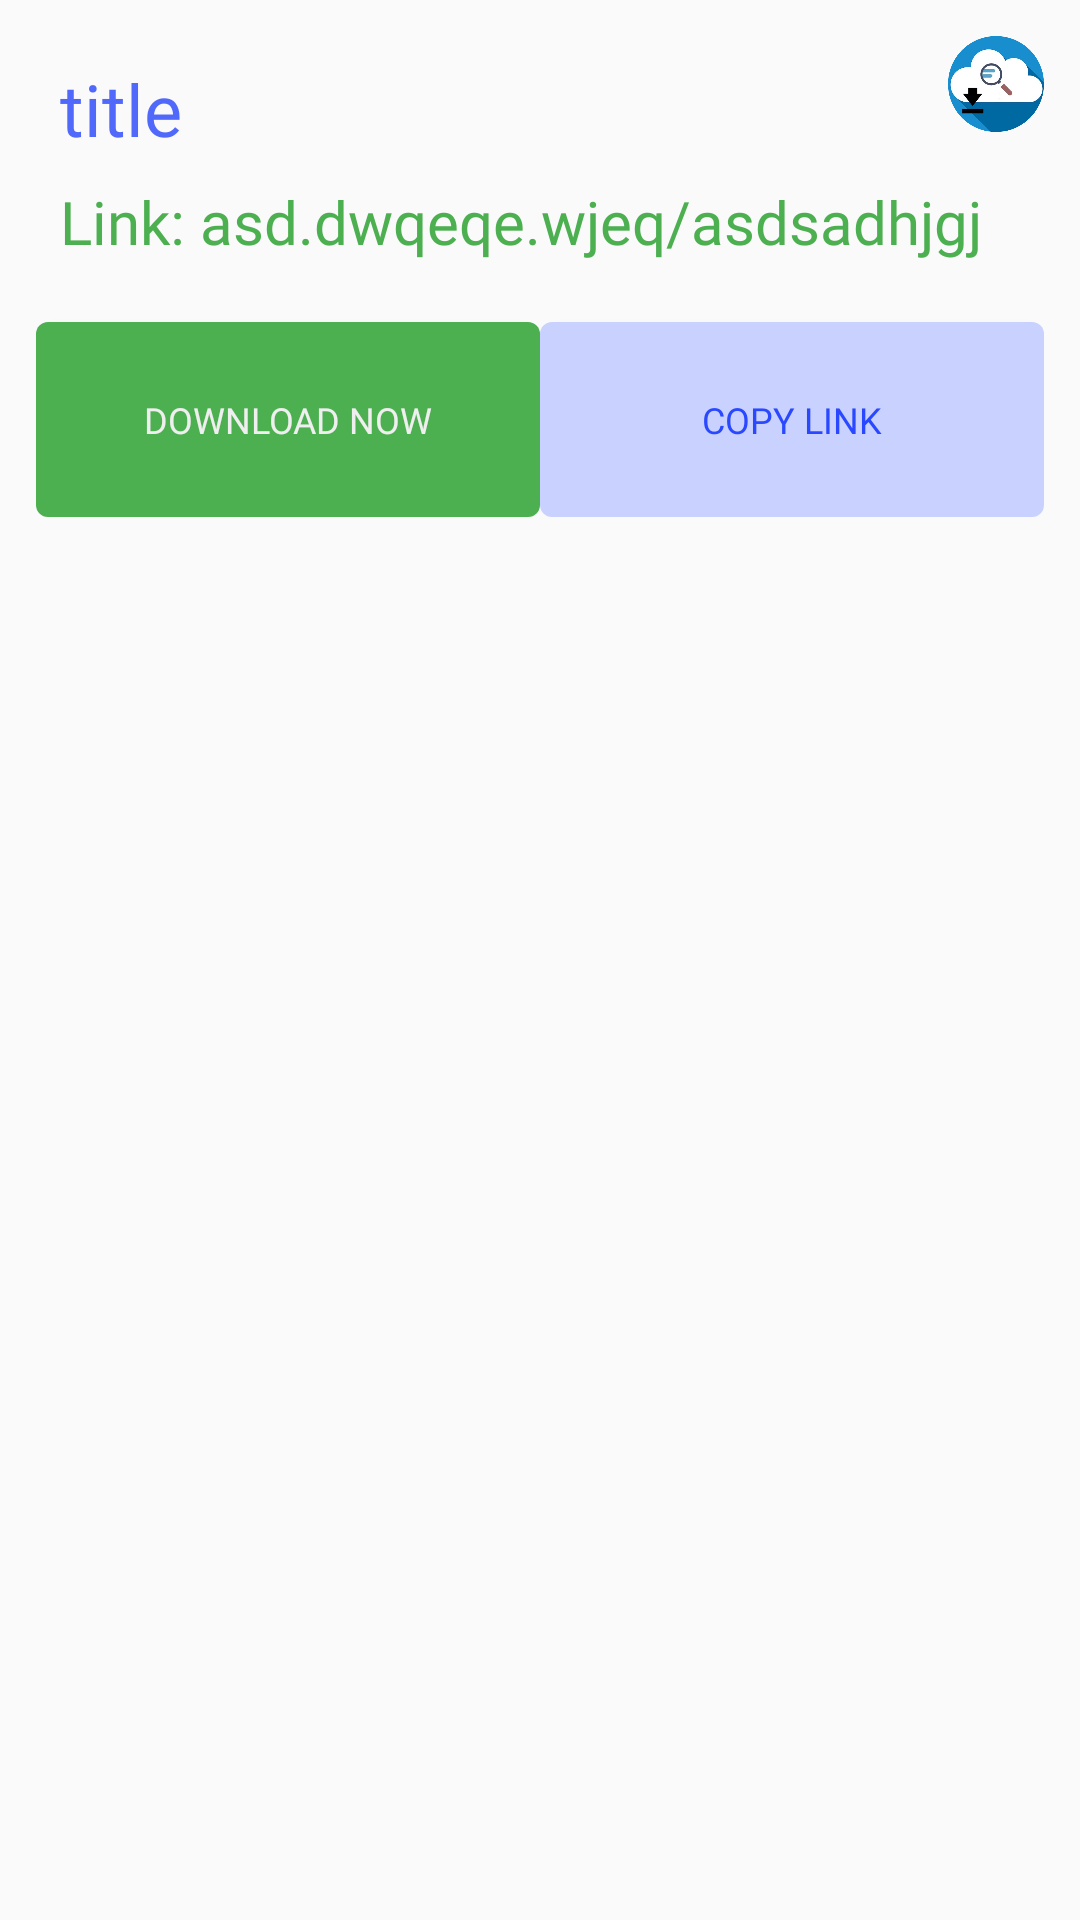

Named icons in this screenshot (1080 × 1920) and their bounding boxes, (x1, y1, x2, y2):
directdownloadicon: (948, 36, 1044, 132)
